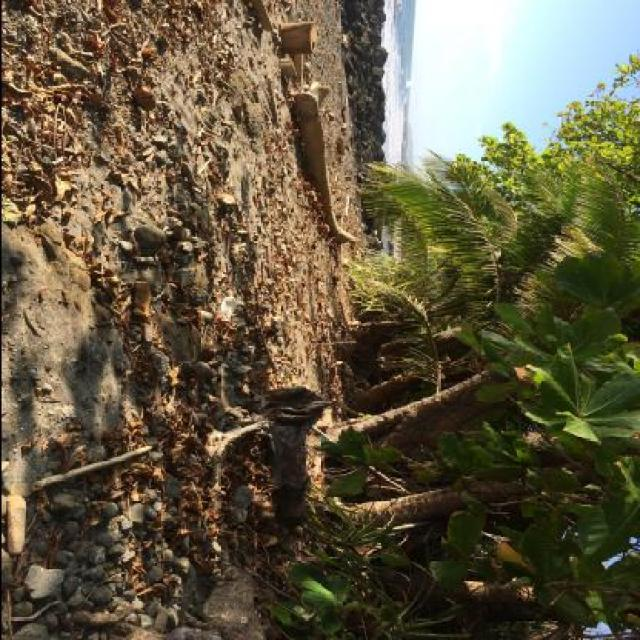plastic: (215, 296, 236, 321)
